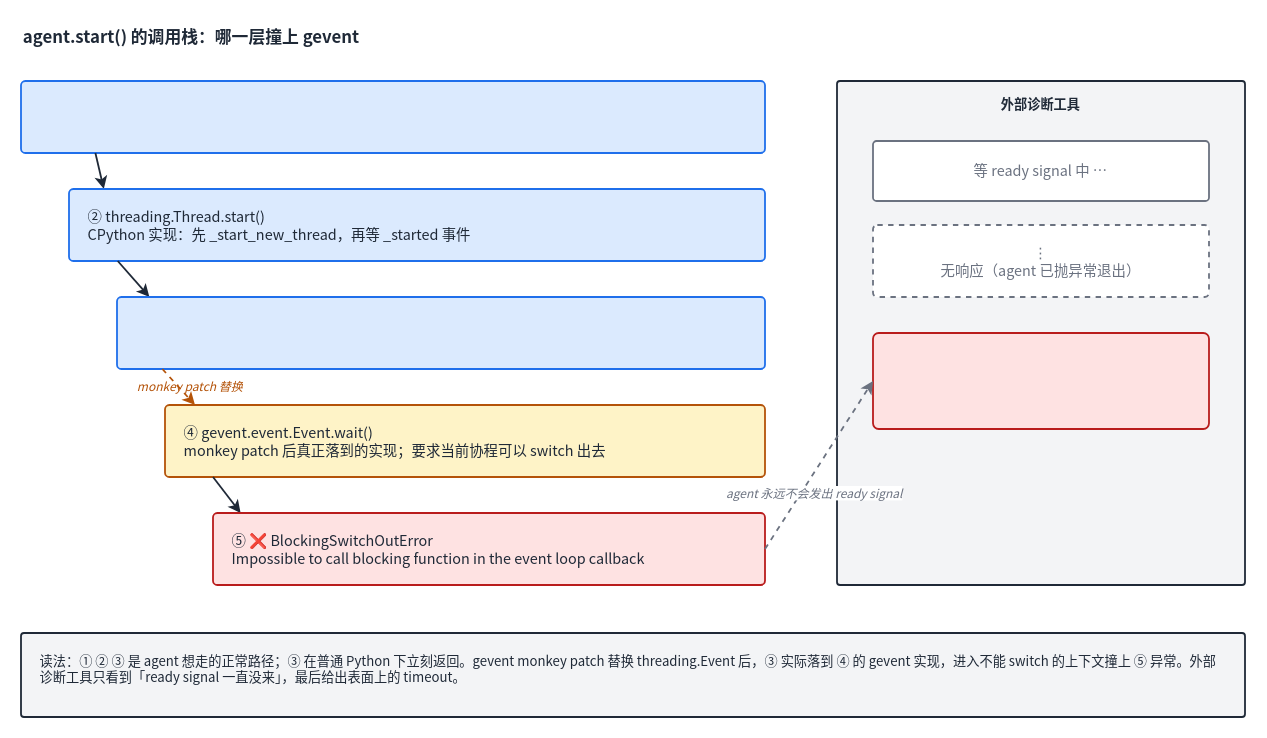
Some shapes in this 1267 by 738 pixel diagram are drawn without their labels. The shapes that lost their labels are listed below. From the top down, each one's centre as x and y in pixels, then its label:
At pixel 392 116: "① agent.start() 创建 socket、启动后台线程，准备发出就绪信号".
At pixel 440 332: "③ self._started.wait() 普通 Python 下：被新线程 set() 后立刻返回".
At pixel 1040 380: "最终超时 Agent initialization timeout".
